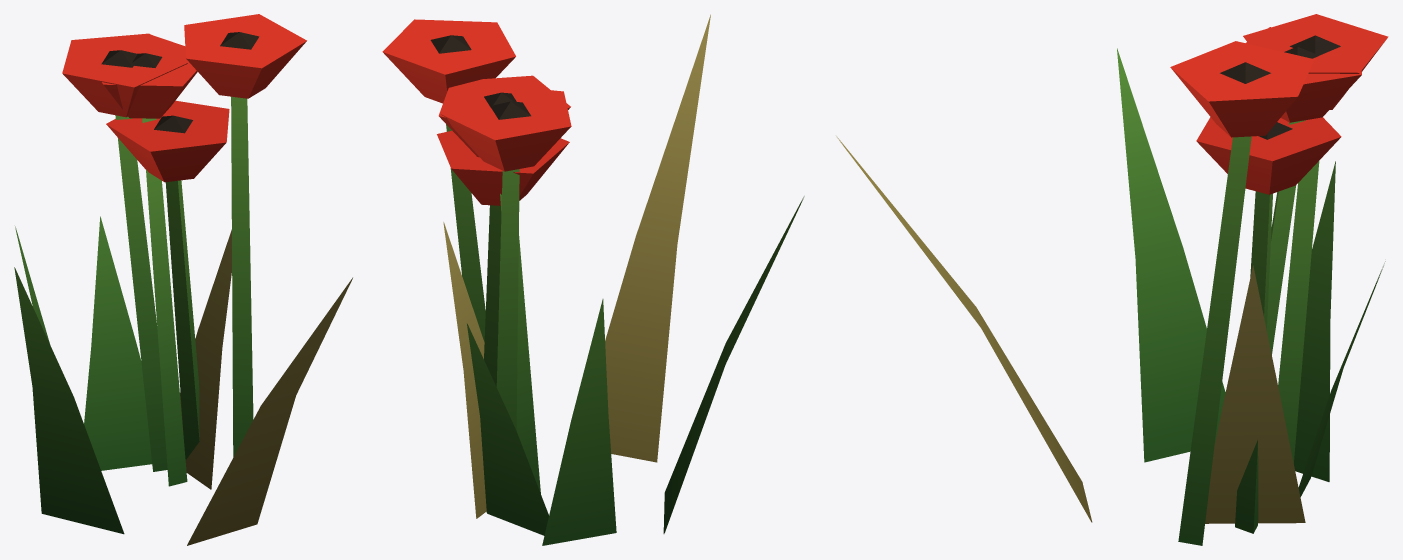
Rendered from Poppies.fbx.
3 renders of one model, left to right at view 1: azimuth 30°, elevation 25°; view 2: azimuth 150°, elevation 25°; view 3: azimuth 270°, elevation 25°, orthographic. The views are drawn at different scales.
Visible parts, largest first — view 1: Poppies_LOD0; view 2: Poppies_LOD0; view 3: Poppies_LOD0.
Part boxes in pixels (left/top/right/bottom): Poppies_LOD0: left=14, top=14, right=352, bottom=545; Poppies_LOD0: left=382, top=14, right=804, bottom=545; Poppies_LOD0: left=836, top=14, right=1388, bottom=545.
Size of what is drawn, in the model's own units: 0.6322 by 0.7828 by 0.8022.
1 material, 1 textured.
